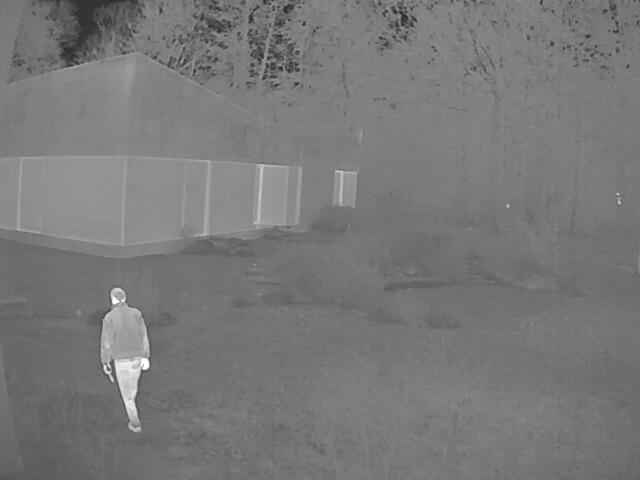person: (99, 286, 150, 434)
